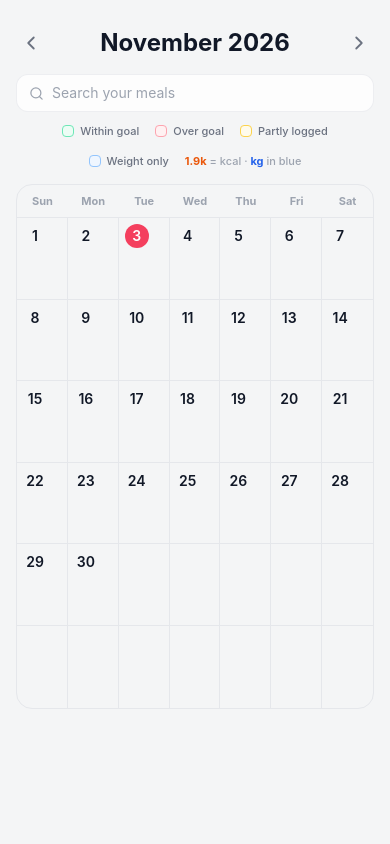
Test: CalendarTab meal search › finds past meals and opens their day
Later steps or results of the test are not shown.
Click the button "Search your meals" at (114, 92), box [16,74,374,112]
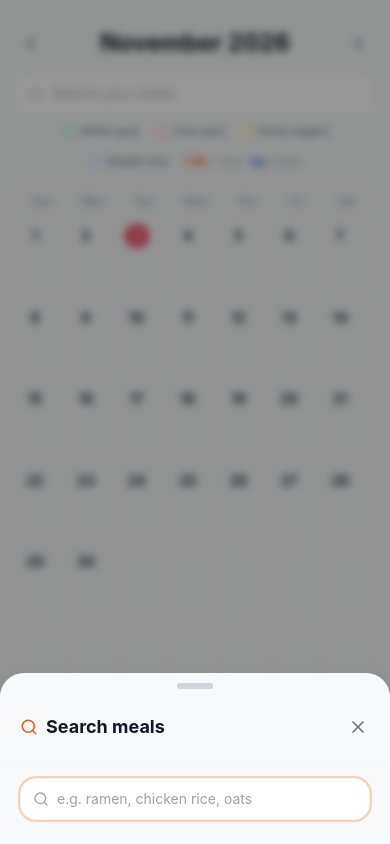
Type "ramen" into the field named "Search meals" at (207, 799), box [57,789,357,809]
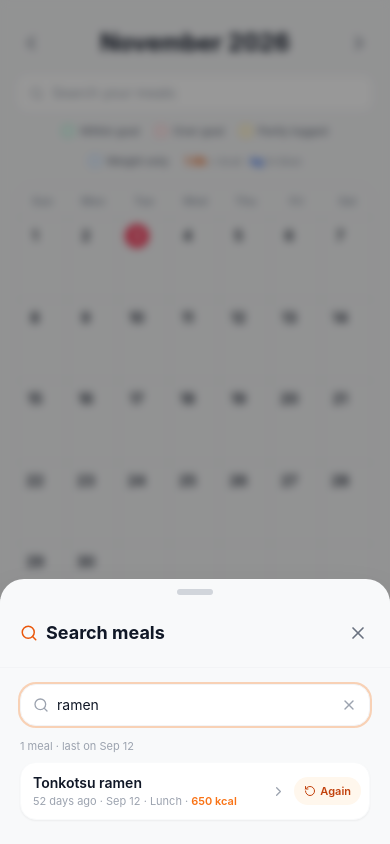
Check: the text "Oats" is not shown
Check: the text "Tonkotsu ramen" is shown, box [33,774,142,791]
